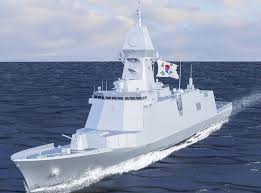tau_muctieu: (11, 38, 233, 180)
